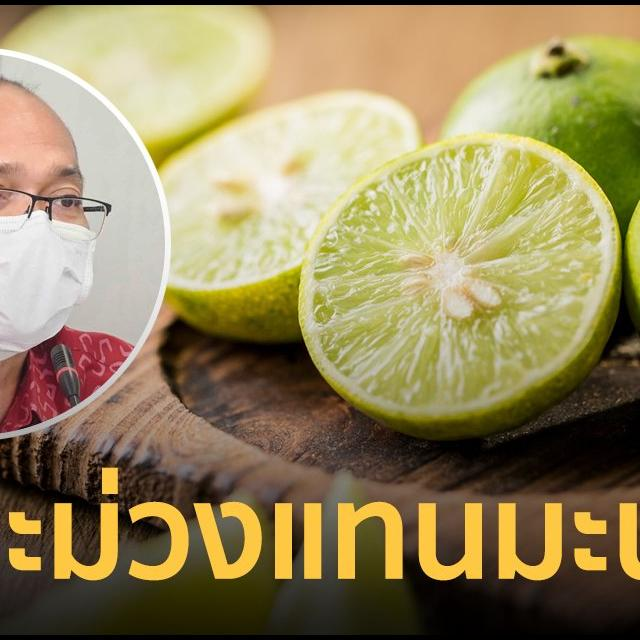lime: (426, 22, 640, 318)
